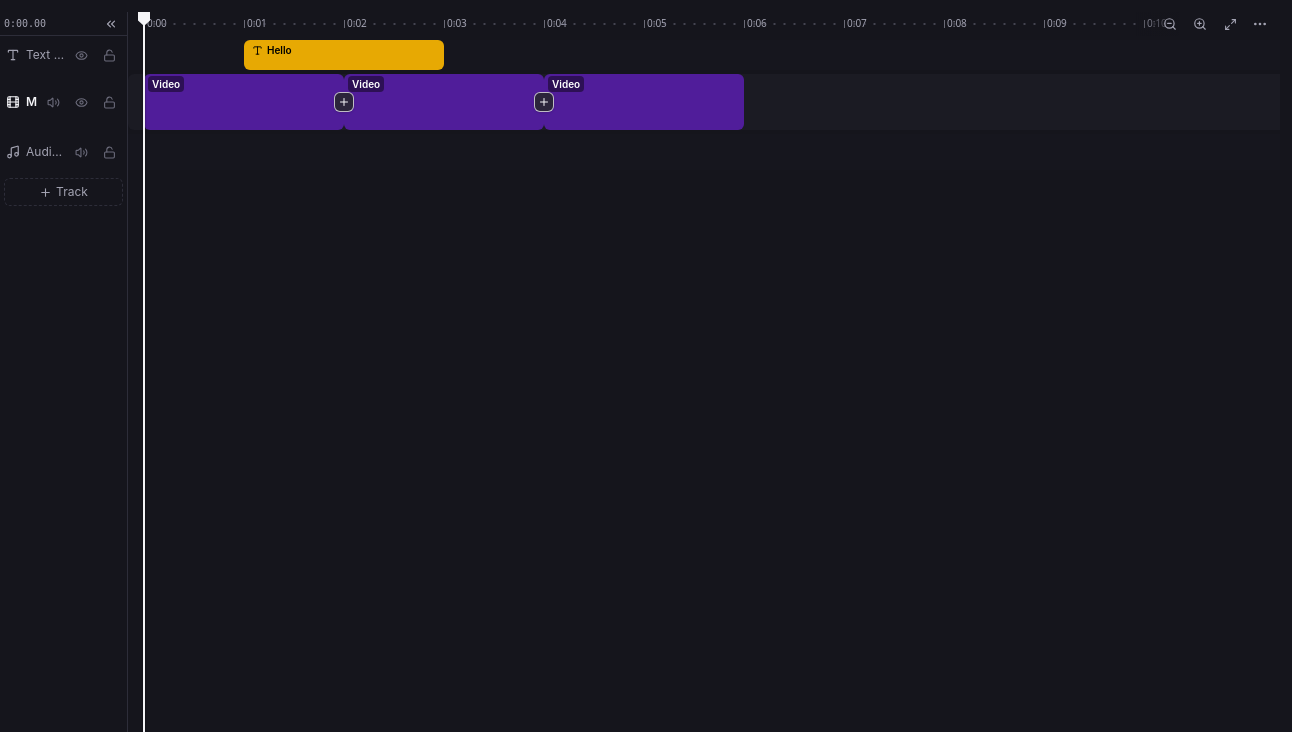
Test case: track headers › collapses and expands
This screenshot has width=1292, height=732.
What coordinates should you click on to do the following:
click the button named "Collapse track headers"
I would click on:
 (111, 24)
Its box is top-left (99, 12), bottom-right (123, 36).
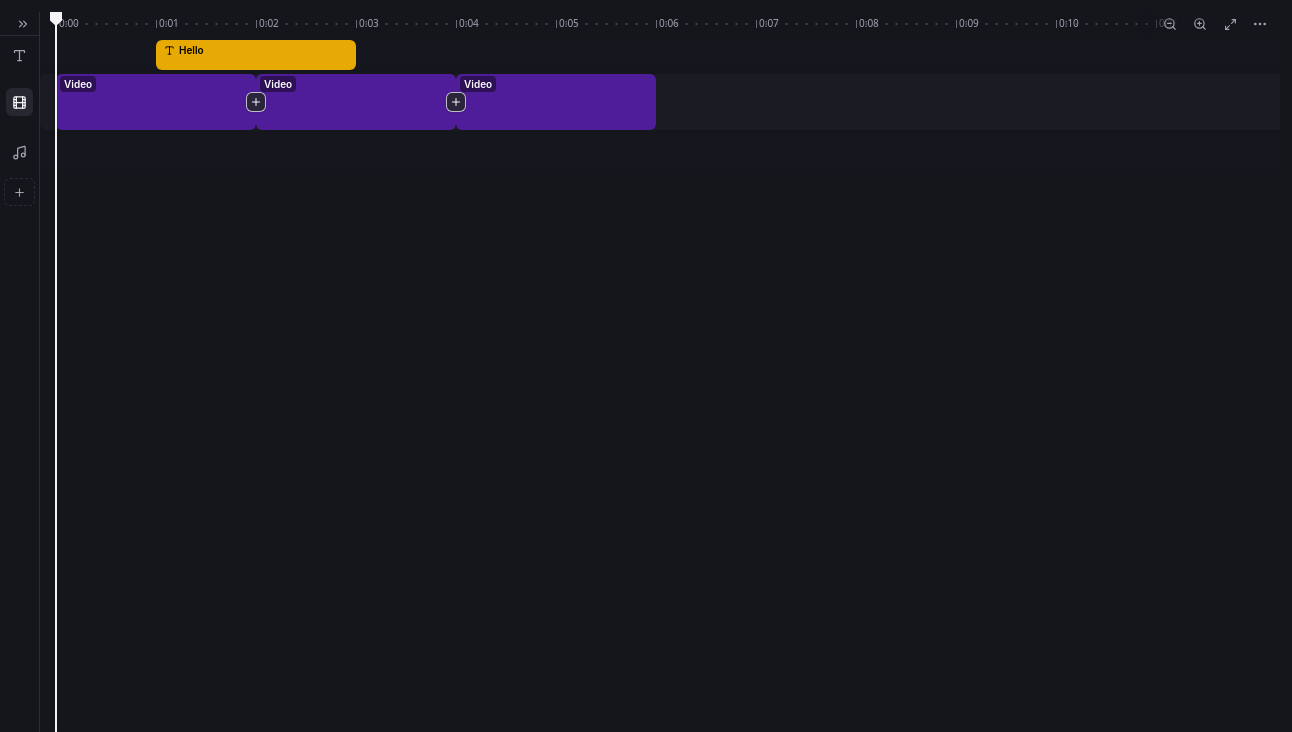
What coordinates should you click on to do the following:
click the button named "Main track — show track controls"
I would click on:
 (20, 102)
Its box is top-left (6, 88), bottom-right (33, 116).
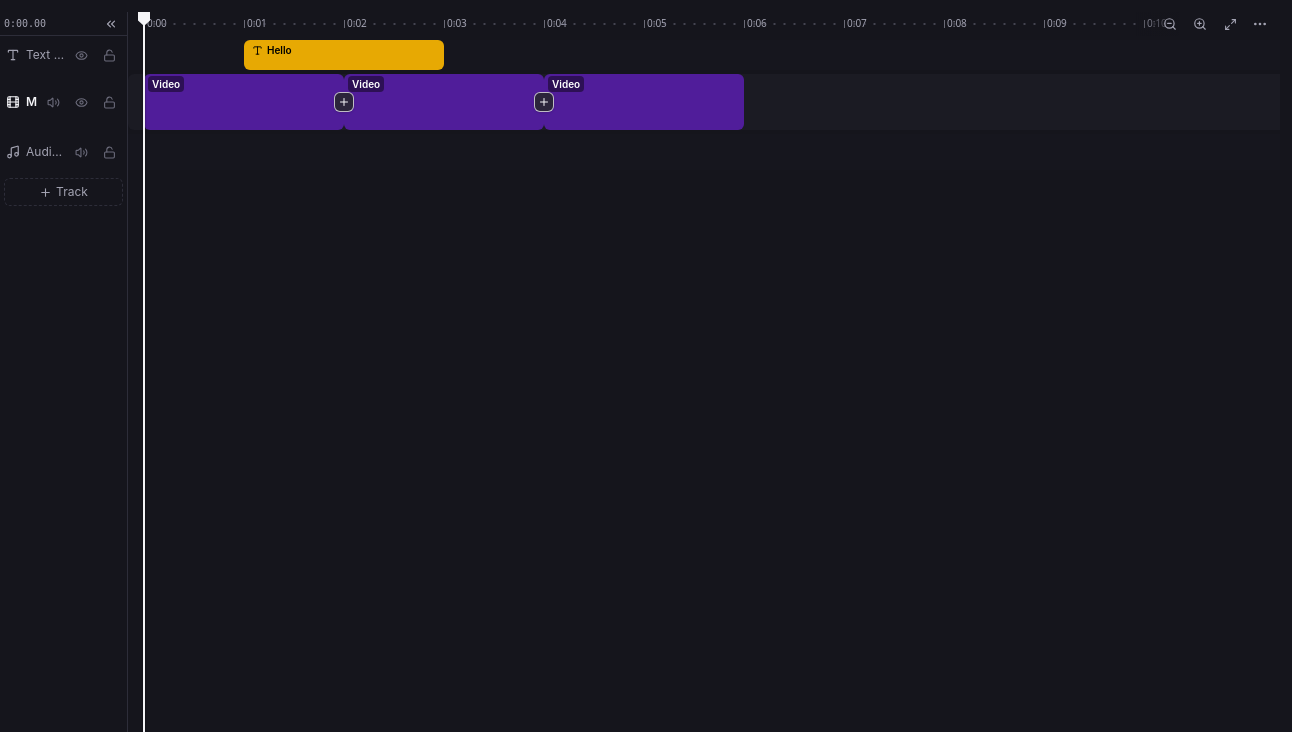
Now the button named "Mute main track" is shown, box top-left (41, 90), bottom-right (65, 114)
